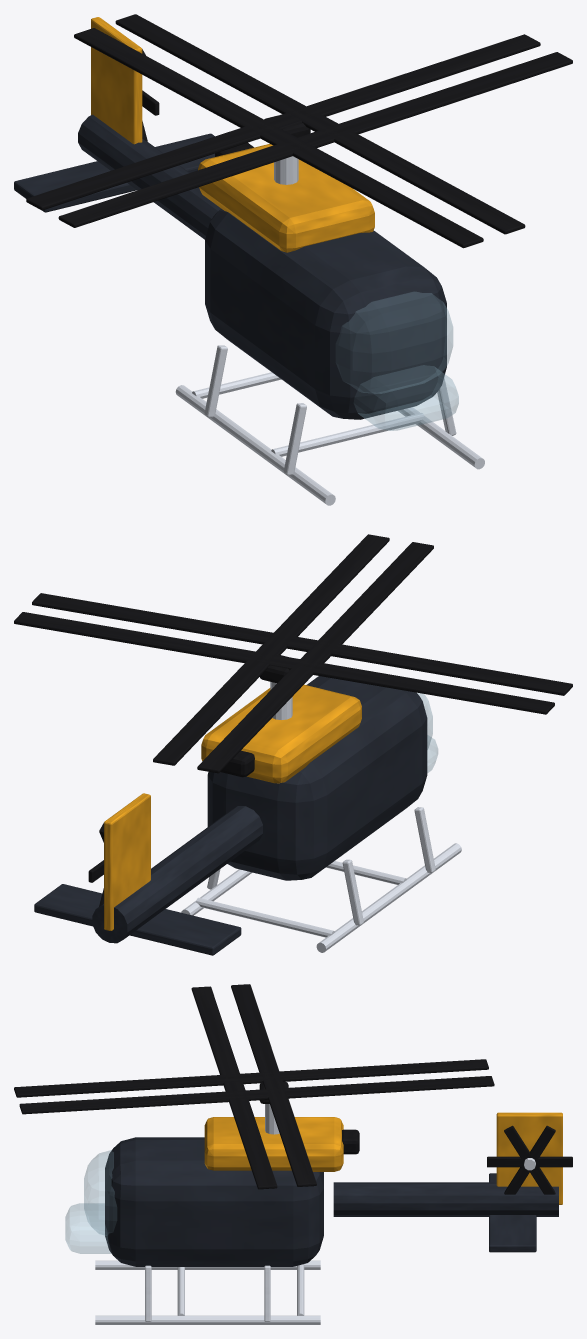
Rendered from veh_helicopter.glb.
3 views of the same model, one above another, from view 1: azimuth 30°, elevation 25°; view 2: azimuth 150°, elevation 25°; view 3: azimuth 270°, elevation 25° (orthographic). The views are drawn at different scales.
Parts seen in each view (by area): view 1: veh_helicopter_pod, veh_helicopter_deck, veh_helicopter_canopy, veh_helicopter_mblade2, veh_helicopter_mblade0, veh_helicopter_mblade1, veh_helicopter_mblade3, veh_helicopter_chin, veh_helicopter_boom, veh_helicopter_fin, veh_helicopter_hstab, veh_helicopter_skid_l (+6 smaller); view 2: veh_helicopter_pod, veh_helicopter_deck, veh_helicopter_mblade0, veh_helicopter_boom, veh_helicopter_mblade2, veh_helicopter_mblade3, veh_helicopter_mblade1, veh_helicopter_hstab, veh_helicopter_fin, veh_helicopter_skid_l, veh_helicopter_cross_r, veh_helicopter_skid_r (+4 smaller); view 3: veh_helicopter_pod, veh_helicopter_boom, veh_helicopter_mblade1, veh_helicopter_mblade3, veh_helicopter_deck, veh_helicopter_mblade0, veh_helicopter_mblade2, veh_helicopter_fin, veh_helicopter_canopy, veh_helicopter_skid_r, veh_helicopter_chin, veh_helicopter_hstab (+5 smaller).
Boxes of the visible parts, left/top/right/bottom form: veh_helicopter_pod: left=205, top=209, right=446, bottom=419; veh_helicopter_deck: left=198, top=144, right=374, bottom=252; veh_helicopter_canopy: left=336, top=292, right=452, bottom=393; veh_helicopter_mblade2: left=58, top=52, right=572, bottom=227; veh_helicopter_mblade0: left=26, top=34, right=540, bottom=210; veh_helicopter_mblade1: left=74, top=28, right=483, bottom=248; veh_helicopter_mblade3: left=115, top=14, right=525, bottom=234; veh_helicopter_chin: left=354, top=365, right=458, bottom=430; veh_helicopter_boom: left=78, top=114, right=221, bottom=239; veh_helicopter_fin: left=91, top=17, right=142, bottom=144; veh_helicopter_hstab: left=14, top=133, right=214, bottom=212; veh_helicopter_skid_l: left=175, top=385, right=335, bottom=505; veh_helicopter_pod: left=207, top=676, right=427, bottom=880; veh_helicopter_deck: left=201, top=684, right=361, bottom=783; veh_helicopter_mblade0: left=14, top=612, right=554, bottom=714; veh_helicopter_boom: left=92, top=806, right=262, bottom=943; veh_helicopter_mblade2: left=32, top=593, right=572, bottom=695; veh_helicopter_mblade3: left=153, top=534, right=389, bottom=765; veh_helicopter_mblade1: left=197, top=542, right=433, bottom=773; veh_helicopter_hstab: left=34, top=884, right=241, bottom=955; veh_helicopter_fin: left=104, top=793, right=150, bottom=930; veh_helicopter_skid_l: left=316, top=843, right=461, bottom=952; veh_helicopter_cross_r: left=196, top=897, right=335, bottom=937; veh_helicopter_skid_r: left=181, top=869, right=252, bottom=915; veh_helicopter_pod: left=105, top=1137, right=323, bottom=1266; veh_helicopter_boom: left=333, top=1182, right=558, bottom=1216; veh_helicopter_mblade1: left=14, top=1059, right=488, bottom=1097; veh_helicopter_mblade3: left=19, top=1076, right=494, bottom=1114; veh_helicopter_deck: left=204, top=1117, right=343, bottom=1171; veh_helicopter_mblade0: left=231, top=984, right=316, bottom=1186; veh_helicopter_mblade2: left=191, top=986, right=277, bottom=1189; veh_helicopter_fin: left=496, top=1112, right=562, bottom=1204; veh_helicopter_canopy: left=84, top=1150, right=116, bottom=1235; veh_helicopter_skid_r: left=95, top=1315, right=320, bottom=1324; veh_helicopter_chin: left=65, top=1203, right=110, bottom=1253; veh_helicopter_hstab: left=489, top=1173, right=536, bottom=1252.
Size of the model in its own units: 7.25 by 3.53 by 8.44.
Materials: 5 (5 with a texture image).
